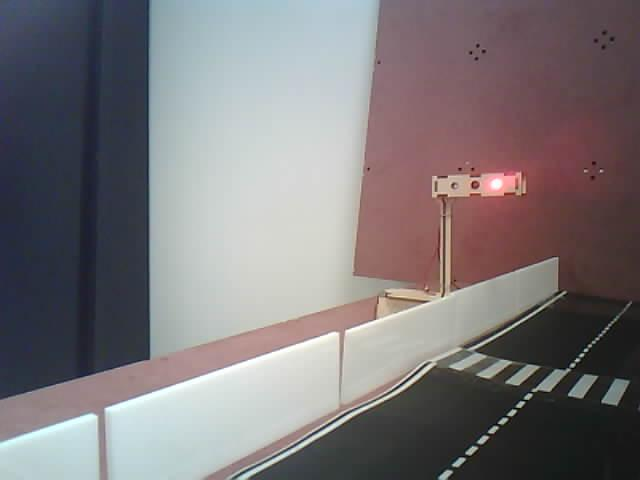crosswalk: (433, 333, 639, 421)
red: (413, 166, 535, 243)
